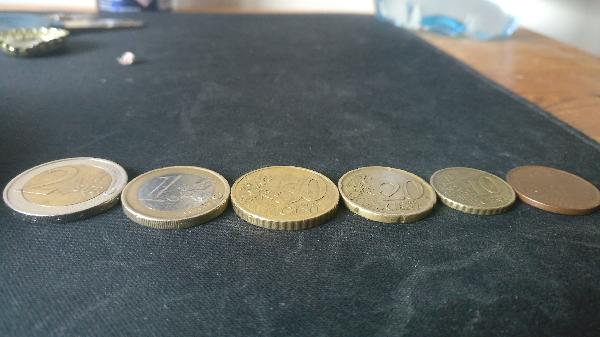Fifty Cent: (231, 163, 340, 231)
Five Cent: (505, 161, 600, 220)
One Euro: (121, 161, 230, 230)
Ten Cent: (429, 165, 518, 220)
Twenty Cent: (335, 165, 436, 227)
Two Euro: (3, 154, 129, 224)
